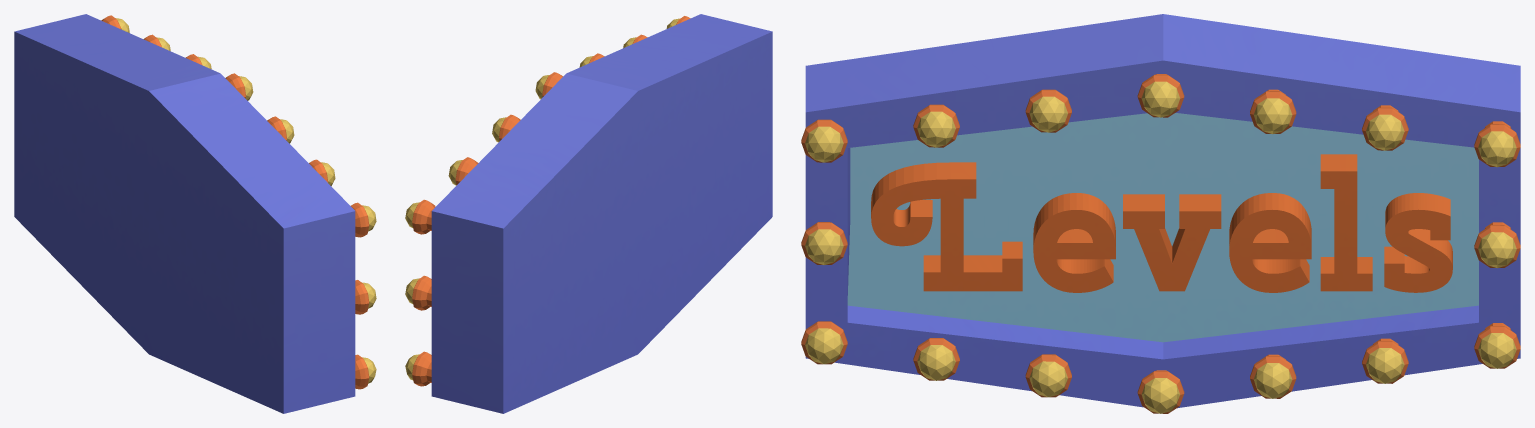
Rendered from levels.fbx.
3 renders of one model, left to right at view 1: azimuth 30°, elevation 25°; view 2: azimuth 150°, elevation 25°; view 3: azimuth 270°, elevation 25°, orthographic. The views are drawn at different scales.
Parts seen in each view (by area): view 1: Levels_sign, Lightbulb.004, Lightbulb.023, Lightbulb.021, Lightbulb.007, Lightbulb.002, Lightbulb.003; view 2: Levels_sign, Lightbulb.010, Lightbulb.001, Lightbulb.022, Lightbulb.009, Lightbulb.008, Lightbulb.007; view 3: Levels_sign, Lightbulb.001, Lightbulb.022, Lightbulb.010, Lightbulb.009, Lightbulb.013, Lightbulb.008, Lightbulb.012, Lightbulb.003, Lightbulb.002, Lightbulb.005, Lightbulb.007 (+5 smaller).
Boxes of the visible parts, x1=… form: Levels_sign: x1=14, y1=14, x2=355, y2=413; Lightbulb.004: x1=351, y1=202, x2=376, y2=237; Lightbulb.023: x1=355, y1=280, x2=376, y2=314; Lightbulb.021: x1=355, y1=354, x2=376, y2=389; Lightbulb.007: x1=225, y1=73, x2=253, y2=100; Lightbulb.002: x1=267, y1=116, x2=294, y2=143; Lightbulb.003: x1=309, y1=159, x2=335, y2=186; Levels_sign: x1=431, y1=14, x2=772, y2=413; Lightbulb.010: x1=405, y1=199, x2=435, y2=234; Lightbulb.001: x1=405, y1=351, x2=431, y2=386; Lightbulb.022: x1=405, y1=275, x2=431, y2=310; Lightbulb.009: x1=448, y1=157, x2=478, y2=185; Lightbulb.008: x1=492, y1=114, x2=520, y2=142; Lightbulb.007: x1=535, y1=72, x2=562, y2=99; Levels_sign: x1=805, y1=14, x2=1520, y2=408; Lightbulb.001: x1=1474, y1=323, x2=1520, y2=368; Lightbulb.022: x1=1474, y1=222, x2=1520, y2=268; Lightbulb.010: x1=1474, y1=121, x2=1520, y2=167; Lightbulb.009: x1=1362, y1=105, x2=1408, y2=150; Lightbulb.013: x1=1362, y1=338, x2=1408, y2=383; Lightbulb.008: x1=1250, y1=89, x2=1296, y2=134; Lightbulb.012: x1=1250, y1=354, x2=1296, y2=398; Lightbulb.003: x1=913, y1=104, x2=959, y2=147; Lightbulb.002: x1=1025, y1=89, x2=1071, y2=132; Lightbulb.005: x1=1025, y1=354, x2=1071, y2=397; Lightbulb.007: x1=1137, y1=74, x2=1184, y2=117.
Bounding box in the file's own units: 15.45 × 36.96 × 68.93.
